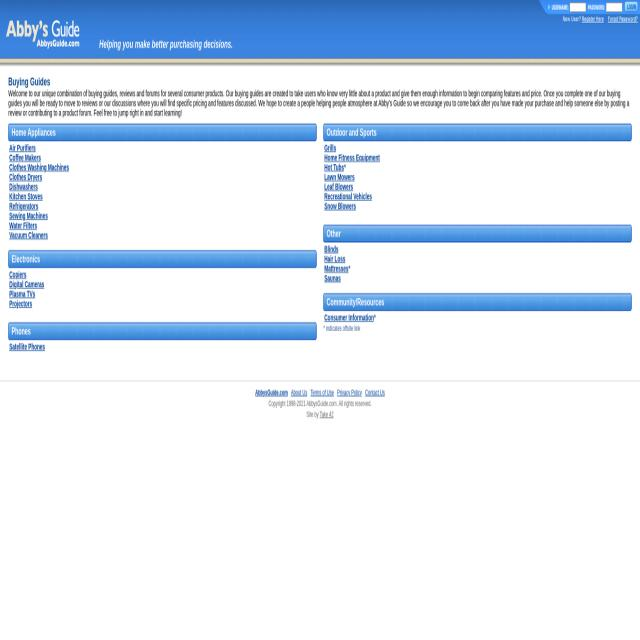button: (0, 0, 99, 58), (563, 16, 603, 23), (538, 0, 552, 14), (625, 2, 638, 12), (552, 5, 568, 9), (588, 5, 604, 9)
field: (570, 2, 586, 12), (606, 2, 622, 12)
